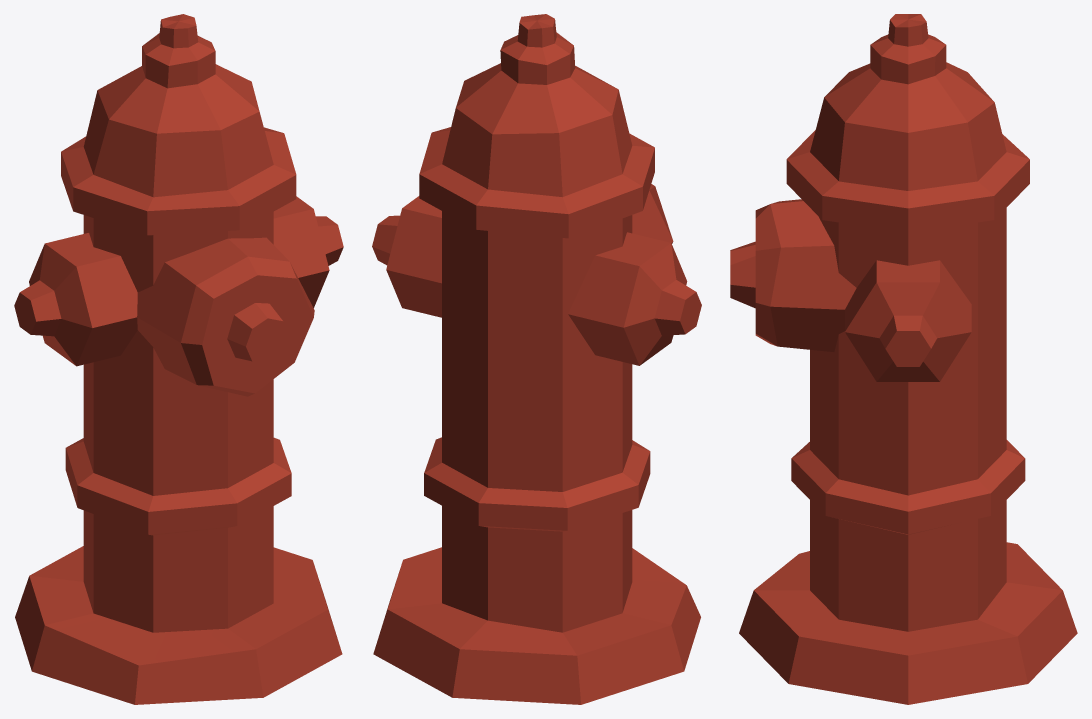
The model's file is hydrant.glb.
The picture shows the model from 3 angles, left to right: view 1: azimuth 30°, elevation 25°; view 2: azimuth 150°, elevation 25°; view 3: azimuth 270°, elevation 25°; orthographic projection.
Visible parts, largest first — view 1: SM_Prop_Hydrant_01; view 2: SM_Prop_Hydrant_01; view 3: SM_Prop_Hydrant_01.
Boxes of the visible parts, x1,y1,x2,y2 form: SM_Prop_Hydrant_01: [14, 14, 343, 704]; SM_Prop_Hydrant_01: [372, 14, 701, 704]; SM_Prop_Hydrant_01: [730, 14, 1077, 704].
Bounding box in the file's own units: 0.5512 × 1.05 × 0.5404.
Materials: 1 (1 with a texture image).
